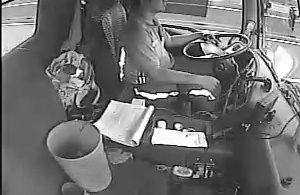paper: (90, 98, 155, 148)
